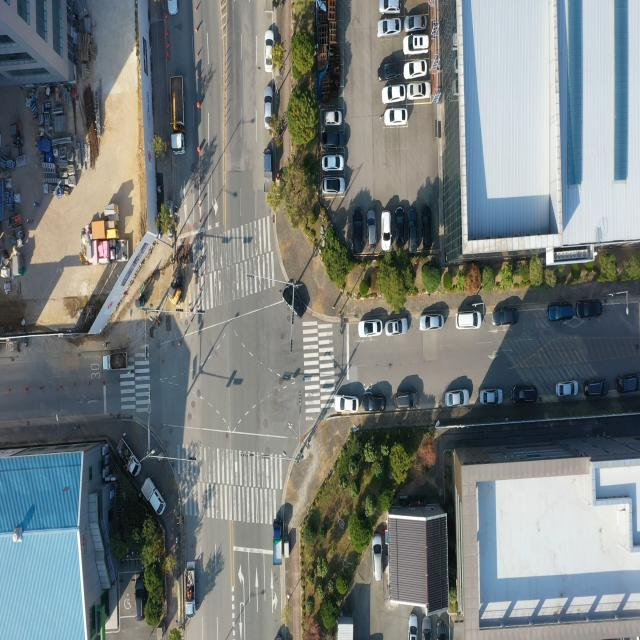car: (283, 280, 304, 322), (371, 534, 384, 586), (614, 373, 640, 396), (332, 394, 359, 416), (362, 391, 386, 414), (352, 208, 364, 252), (547, 303, 575, 321), (576, 302, 603, 320), (377, 18, 401, 38), (455, 312, 481, 330), (445, 388, 471, 406), (492, 310, 518, 328), (385, 107, 408, 127), (358, 319, 382, 338), (405, 61, 428, 79), (406, 34, 429, 52), (556, 380, 579, 398), (479, 388, 504, 404), (419, 316, 444, 332), (384, 86, 406, 104), (386, 318, 408, 336), (365, 317, 387, 335), (514, 386, 538, 402), (322, 177, 343, 195), (266, 31, 275, 71), (265, 88, 274, 128), (322, 132, 342, 150), (409, 84, 430, 101), (322, 156, 343, 173), (379, 63, 400, 80), (584, 380, 606, 396), (476, 391, 498, 407), (396, 395, 418, 411), (382, 211, 391, 250), (407, 14, 427, 30), (380, 0, 401, 14), (422, 616, 434, 640), (325, 110, 341, 126), (437, 616, 447, 640), (410, 615, 419, 640), (167, 0, 178, 18)
medium_truck: (170, 74, 184, 152)
small_truck: (140, 476, 166, 517), (116, 440, 140, 480), (184, 561, 198, 619), (271, 519, 285, 569), (101, 351, 128, 373), (262, 149, 274, 193)
